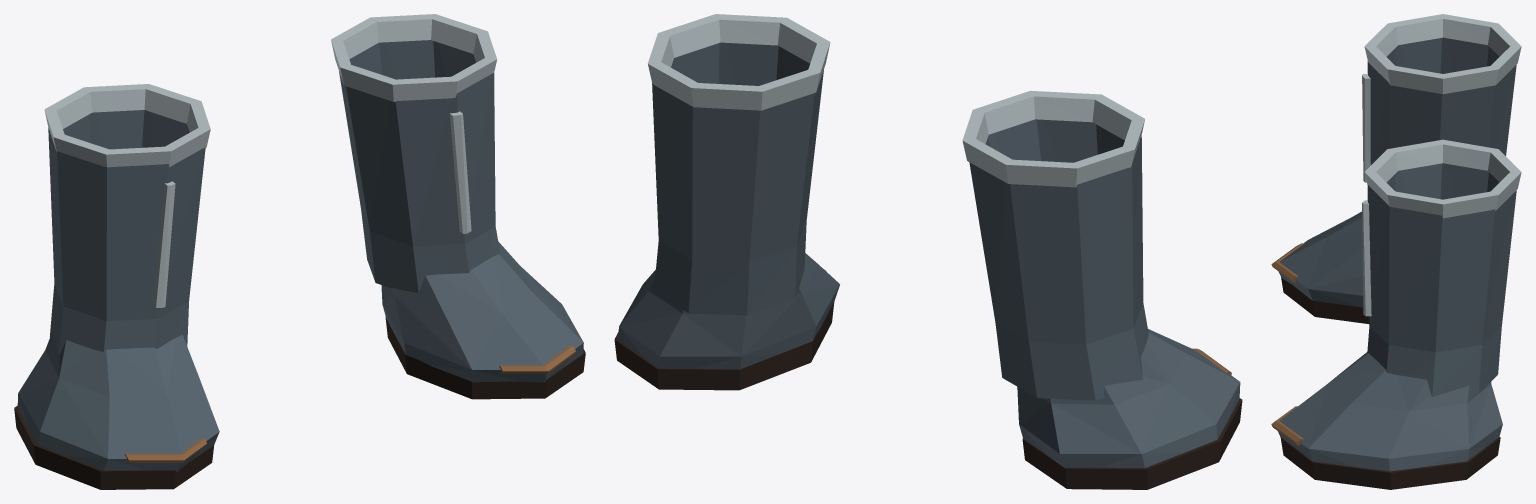
The model's file is plate_feet-male.glb.
3 views of the same model, side by side, from view 1: azimuth 30°, elevation 25°; view 2: azimuth 150°, elevation 25°; view 3: azimuth 270°, elevation 25° (orthographic). The views are drawn at different scales.
Parts seen in each view (by area): view 1: plate boot upper -1, plate boot upper 1, plate boot foot -1, plate boot foot 1, Turned boot cuff 1, Turned boot cuff -1, Boot sole -1, Boot sole 1, Boot upper folded ridge 1, Boot upper folded ridge -1, Boot toe welt -1, Boot toe welt 1; view 2: plate boot upper -1, plate boot upper 1, plate boot foot -1, plate boot foot 1, Turned boot cuff 1, Turned boot cuff -1, Boot sole -1, Boot sole 1; view 3: plate boot upper 1, plate boot foot 1, plate boot upper -1, Turned boot cuff -1, Turned boot cuff 1, plate boot foot -1, Boot sole 1, Boot sole -1, Boot upper folded ridge 1, Boot upper folded ridge -1, Boot toe welt 1, Boot toe welt -1.
Boxes of the visible parts, <box> form: plate boot upper -1: <box>48,110,205,354</box>; plate boot upper 1: <box>339,40,500,292</box>; plate boot foot -1: <box>17,331,219,472</box>; plate boot foot 1: <box>381,241,583,382</box>; Turned boot cuff 1: <box>331,14,497,101</box>; Turned boot cuff -1: <box>44,84,210,167</box>; Boot sole -1: <box>14,405,213,489</box>; Boot sole 1: <box>385,317,585,399</box>; Boot upper folded ridge 1: <box>449,111,471,233</box>; Boot upper folded ridge -1: <box>153,181,175,307</box>; Boot toe welt -1: <box>124,437,206,462</box>; Boot toe welt 1: <box>499,344,575,373</box>; plate boot upper -1: <box>969,119,1148,400</box>; plate boot upper 1: <box>652,42,823,315</box>; plate boot foot -1: <box>1017,329,1240,467</box>; plate boot foot 1: <box>618,253,839,369</box>; Turned boot cuff 1: <box>648,14,830,110</box>; Turned boot cuff -1: <box>962,90,1144,187</box>; Boot sole -1: <box>1022,398,1242,489</box>; Boot sole 1: <box>614,302,834,390</box>; plate boot upper 1: <box>1367,163,1516,396</box>; plate boot foot 1: <box>1278,352,1502,471</box>; plate boot upper -1: <box>1367,37,1516,164</box>; Turned boot cuff -1: <box>1364,14,1521,94</box>; Turned boot cuff 1: <box>1364,139,1521,218</box>; plate boot foot -1: <box>1278,211,1363,307</box>; Boot sole 1: <box>1280,437,1500,489</box>; Boot sole -1: <box>1281,277,1369,323</box>; Boot upper folded ridge 1: <box>1362,200,1371,316</box>; Boot upper folded ridge -1: <box>1362,74,1370,182</box>; Boot toe welt 1: <box>1271,406,1304,445</box>; Boot toe welt -1: <box>1271,243,1304,282</box>.
Bounding box in the file's own units: 2.95 × 1.56 × 1.34.
